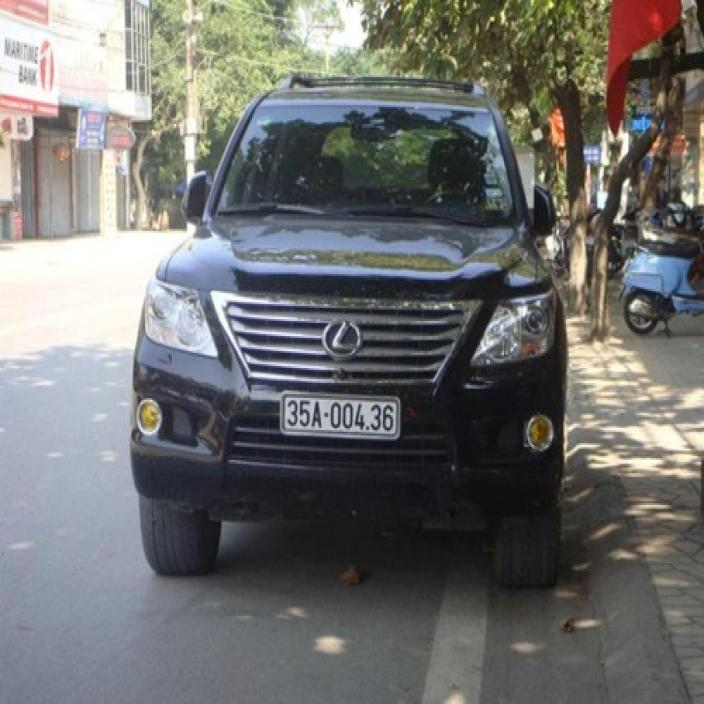numplate: (278, 387, 402, 443)
